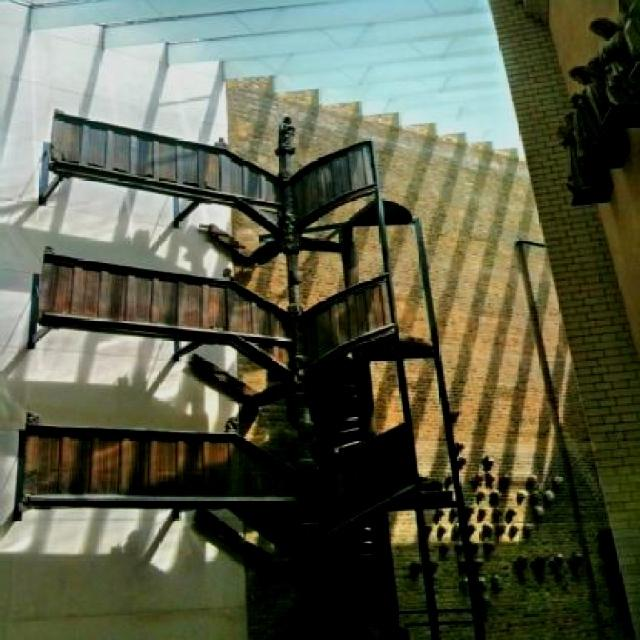stair: (286, 349, 459, 640)
